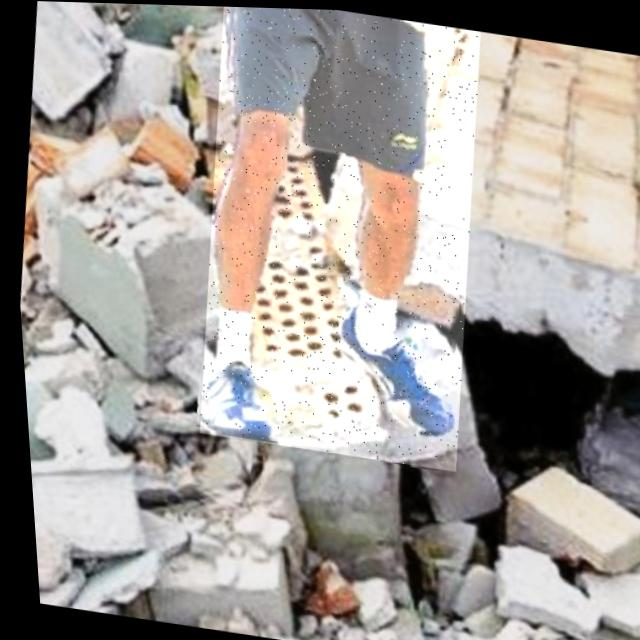Person in Rubble: (171, 4, 503, 470)
